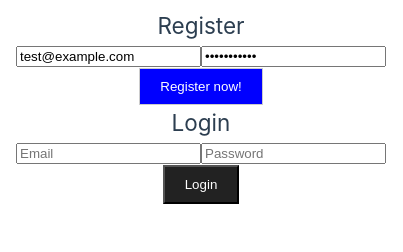
Scenario: LoginRegister.vue › registers successfully and shows success message
The image size is (403, 252).
What coordinates should you click on to do the following:
click the button with class "register-btn-variantA"
I would click on:
 (201, 86)
Its box is 139,68 -> 263,105.
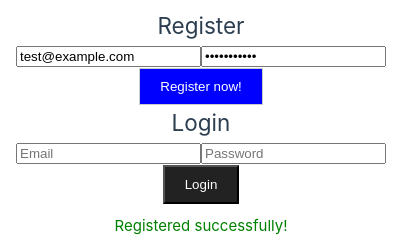
Expected: the text with class "success" reads "Registered successfully!", 114,216 -> 288,235
